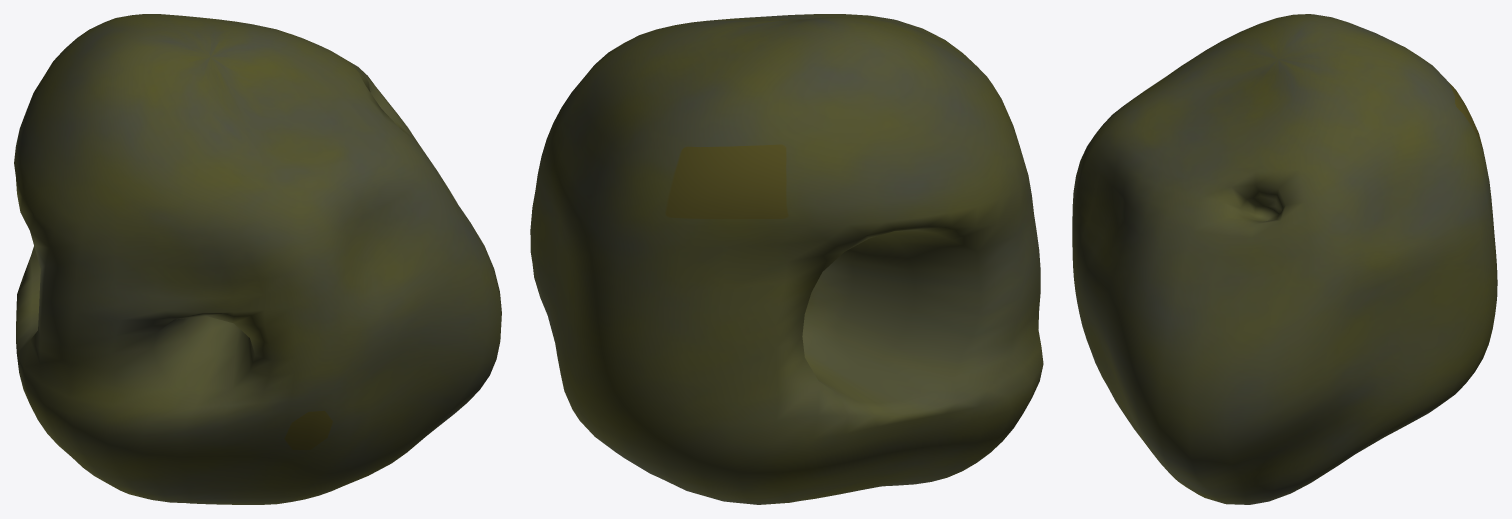
The model's file is asteroid2.fbx.
3 renders of one model, left to right at view 1: azimuth 30°, elevation 25°; view 2: azimuth 150°, elevation 25°; view 3: azimuth 270°, elevation 25°, orthographic. The views are drawn at different scales.
Parts seen in each view (by area): view 1: Asteroid2; view 2: Asteroid2; view 3: Asteroid2.
Part boxes in pixels (bbox=[...]): Asteroid2: bbox=[14, 14, 501, 504]; Asteroid2: bbox=[530, 14, 1043, 504]; Asteroid2: bbox=[1072, 14, 1497, 504].
Bounding box in the file's own units: 46.55 × 45.13 × 43.18.
